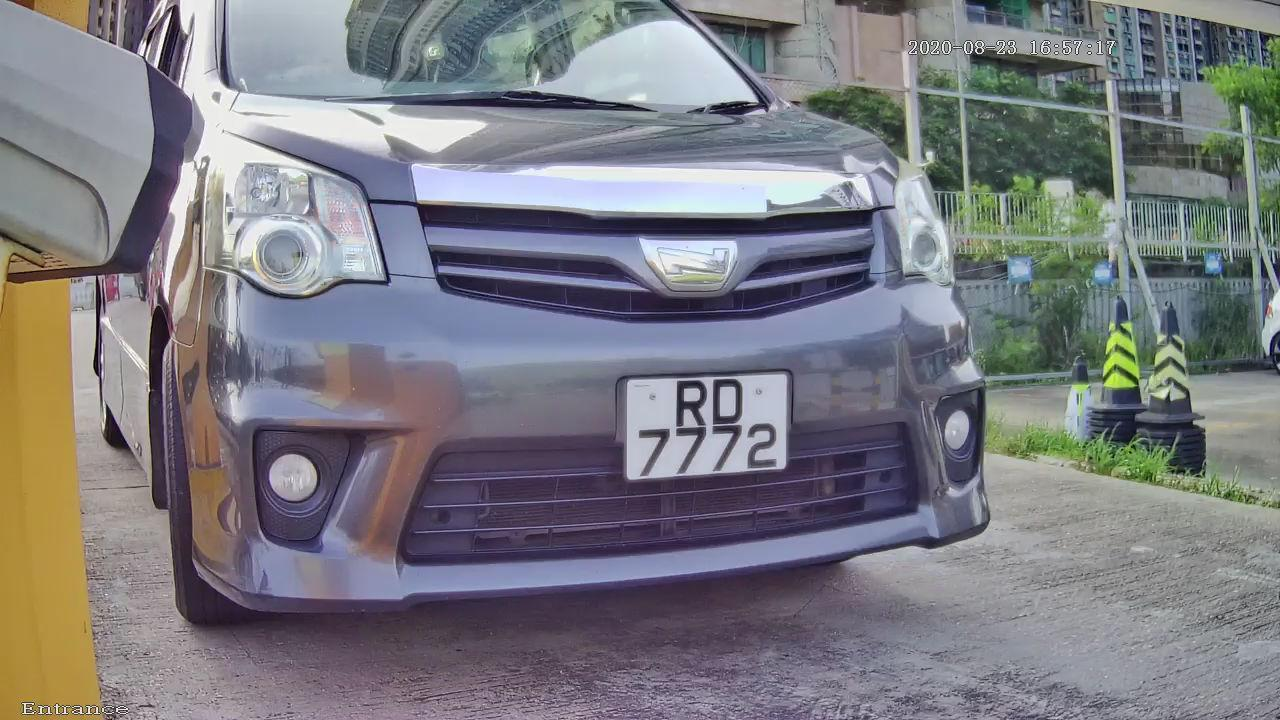Car: (75, 4, 1046, 672)
License Plate: (560, 335, 843, 554)
